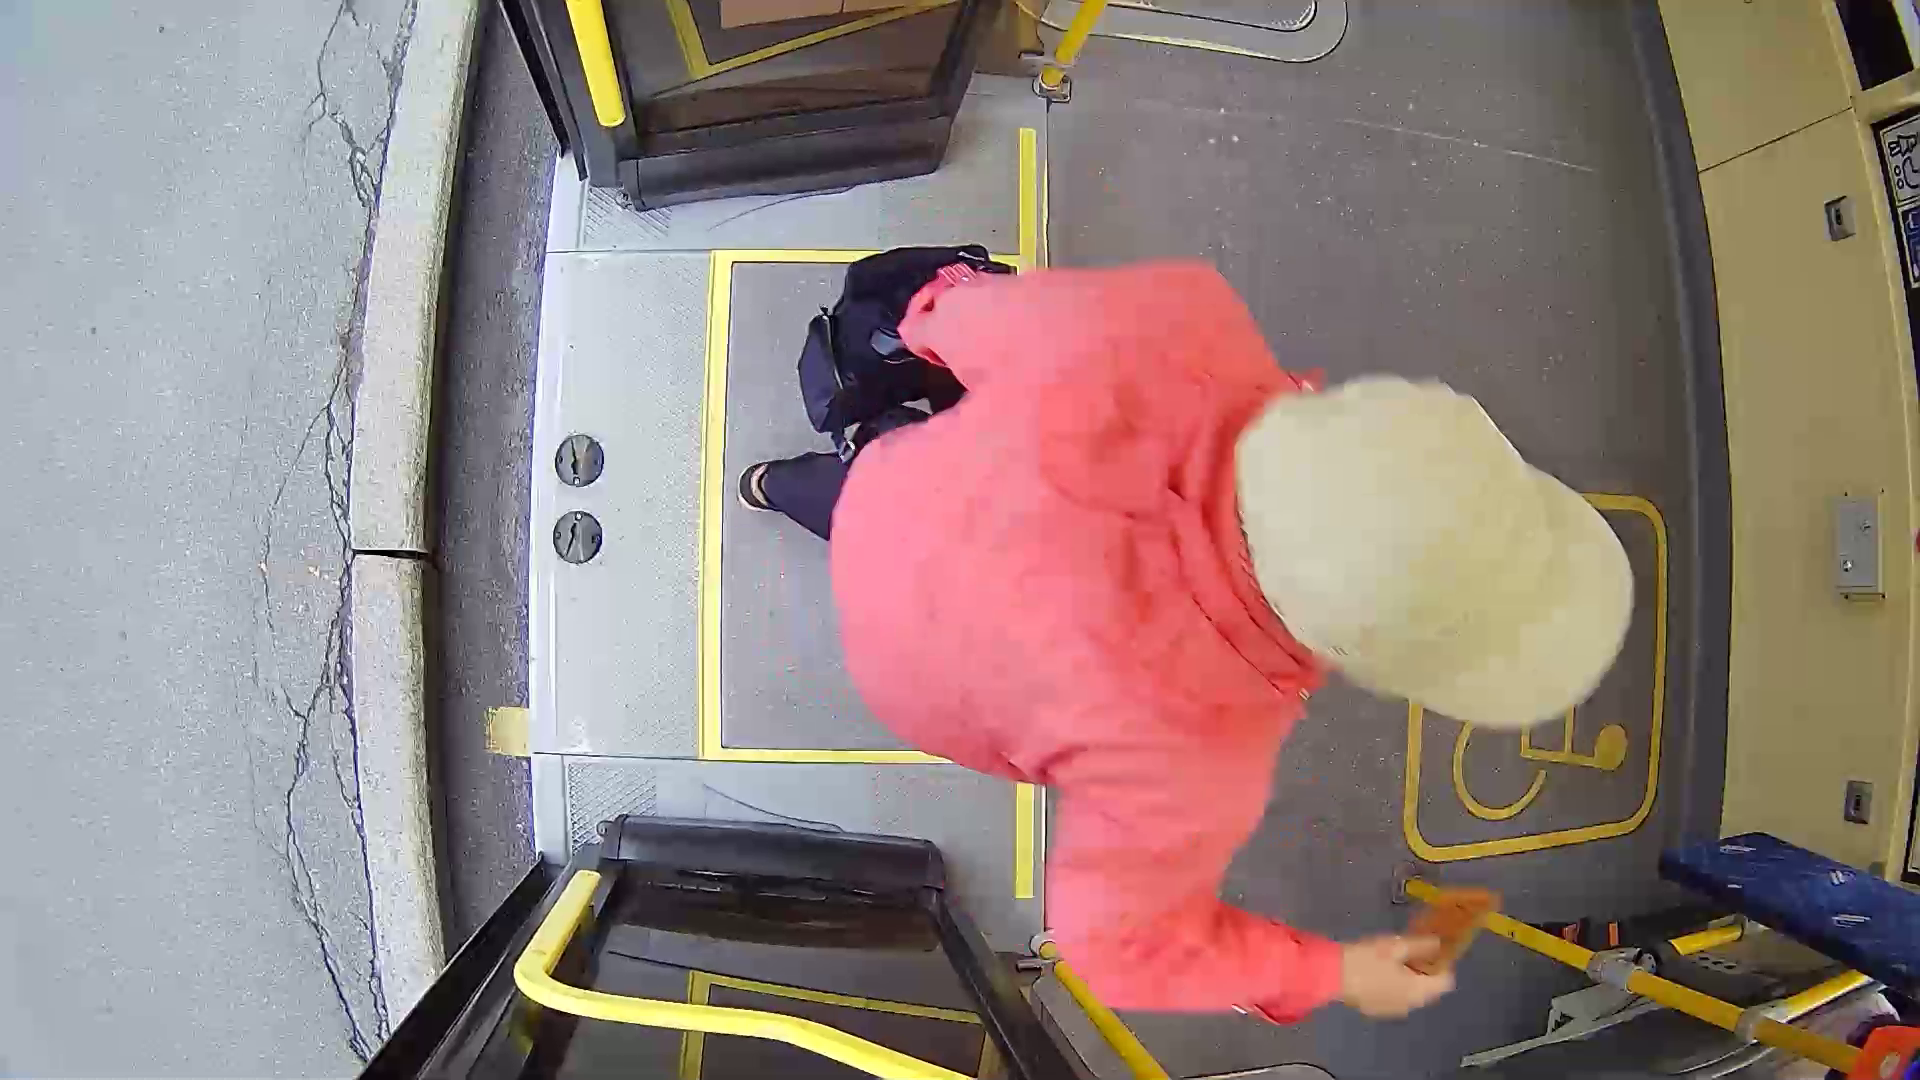person: (809, 204, 1677, 979)
